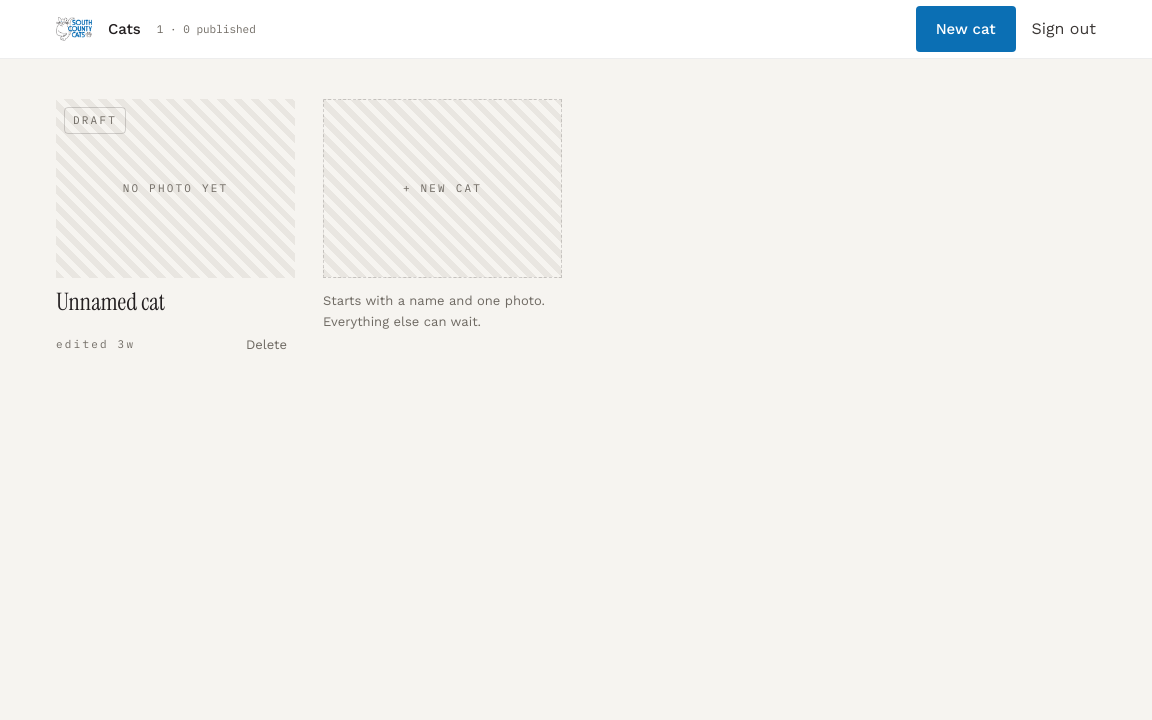
Test case: ProfileList › names an unnamed cat without a name and confirms from the keyboard
This screenshot has width=1152, height=720.
Click the button with aria-label "Delete Unnamed cat" at (266, 344), box [238,322,295,366]
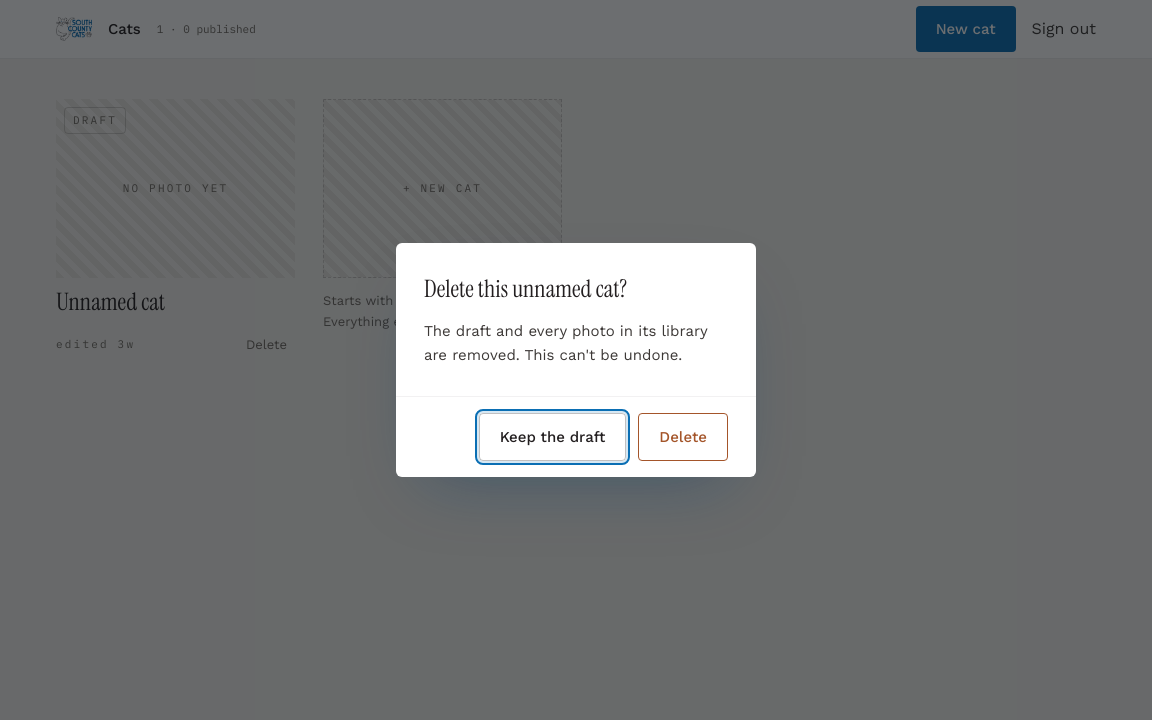
Press Tab
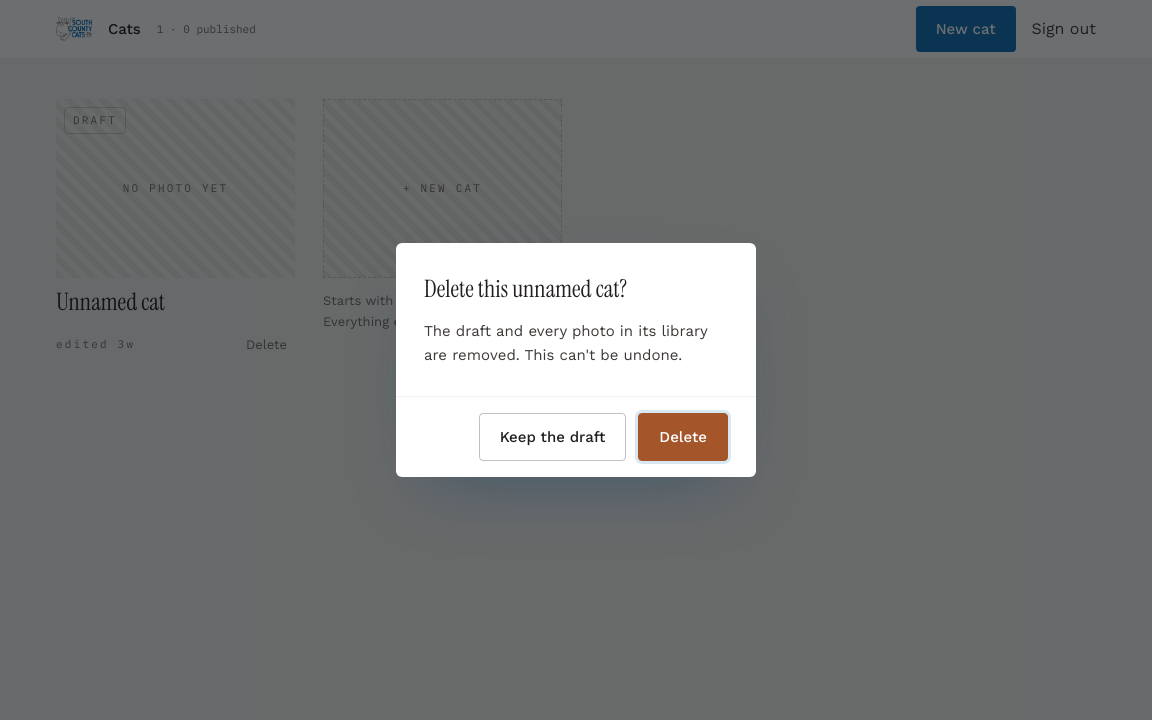
Press Enter
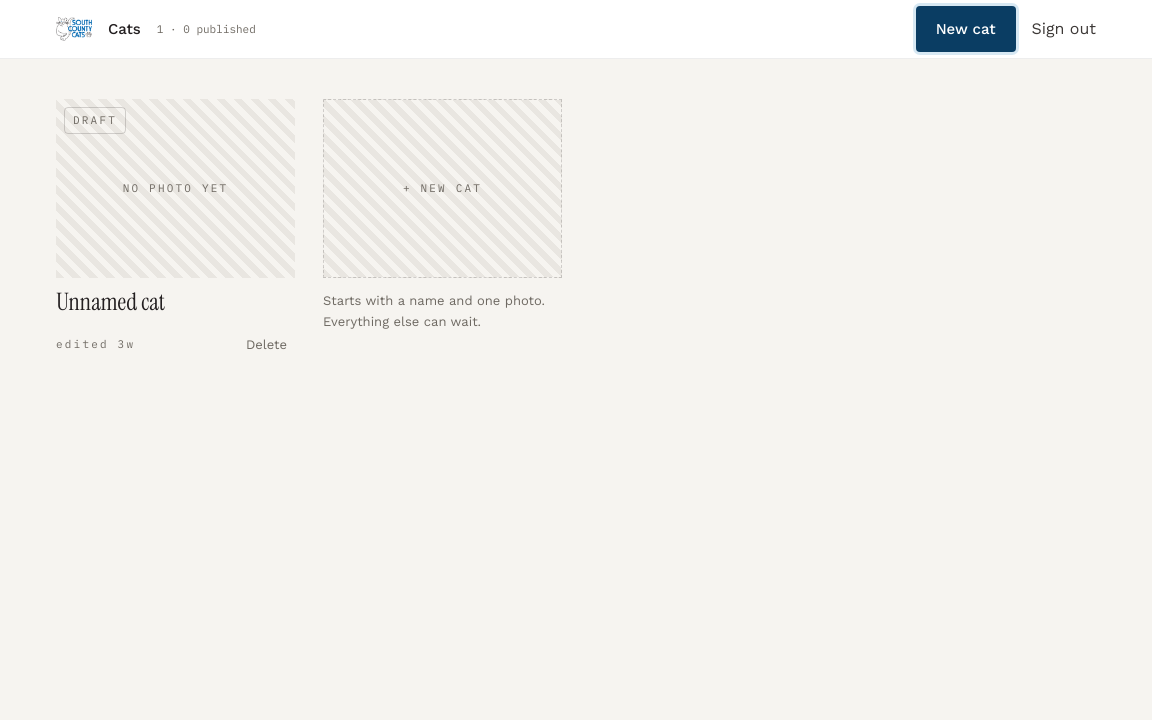
Result: the dialog is gone
